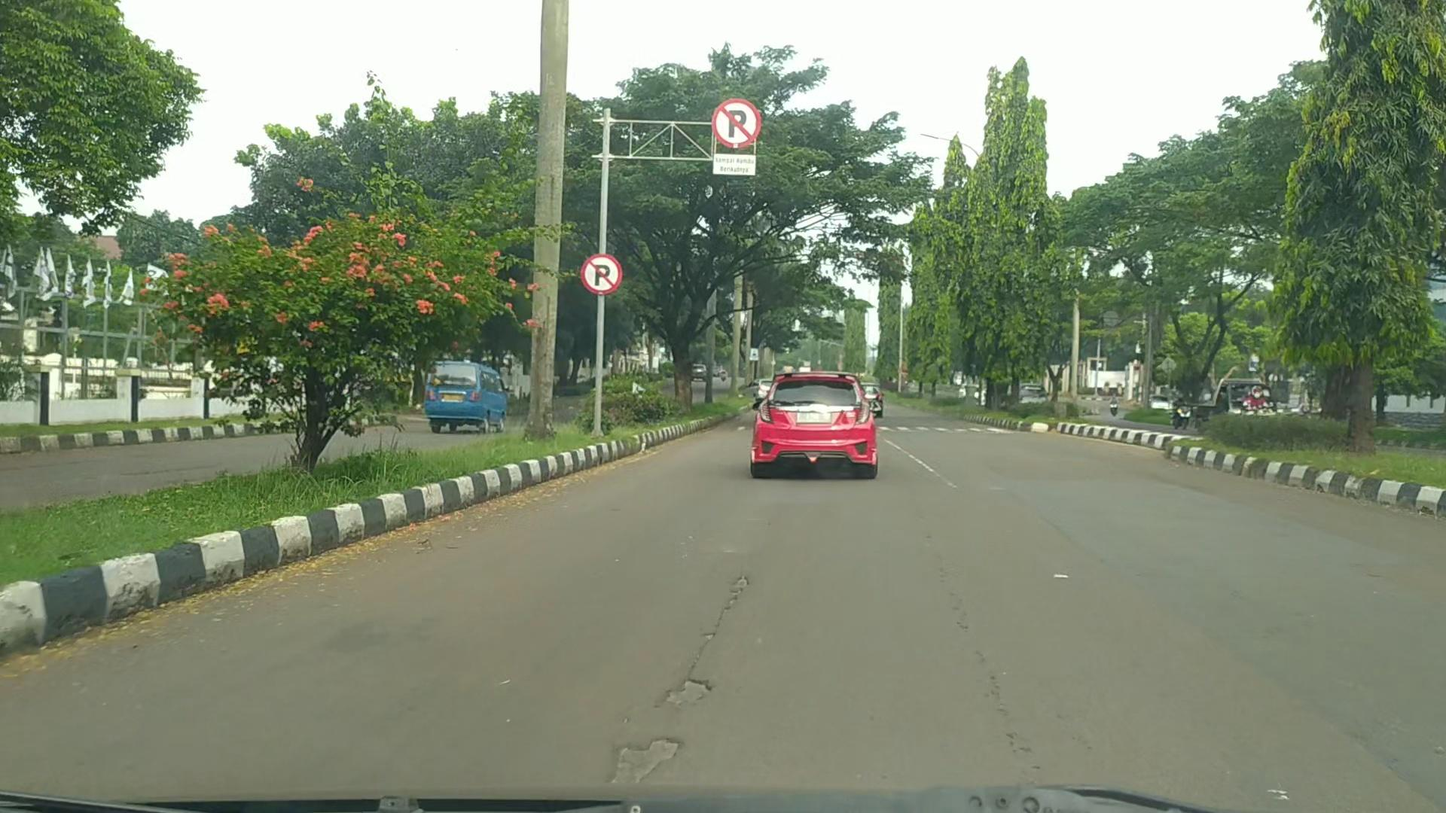pothole: (603, 736, 683, 788), (662, 679, 717, 706), (731, 575, 749, 589)
